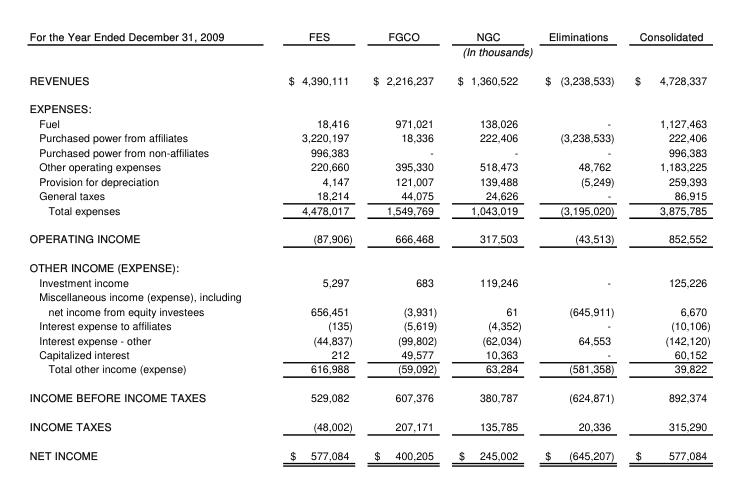table: (28, 28, 709, 461)
table column: (28, 28, 255, 461), (255, 28, 362, 461), (532, 28, 623, 461), (446, 28, 532, 461), (623, 28, 709, 461), (362, 28, 446, 461)
table column header: (28, 28, 709, 64)
table projected row header: (28, 93, 709, 115), (28, 252, 709, 274), (28, 288, 709, 303)
table row: (28, 64, 709, 93), (28, 223, 709, 252), (28, 382, 709, 411), (28, 411, 709, 440), (28, 93, 709, 115), (28, 252, 709, 274), (28, 43, 709, 64), (28, 202, 709, 223), (28, 361, 709, 382), (28, 440, 709, 461), (28, 28, 709, 43), (28, 129, 709, 144), (28, 158, 709, 173), (28, 187, 709, 202), (28, 288, 709, 303), (28, 317, 709, 332), (28, 346, 709, 361), (28, 115, 709, 129), (28, 144, 709, 158), (28, 173, 709, 187), (28, 274, 709, 288), (28, 303, 709, 317), (28, 332, 709, 346)
table spanning cell: (255, 43, 709, 64), (28, 28, 255, 64)
